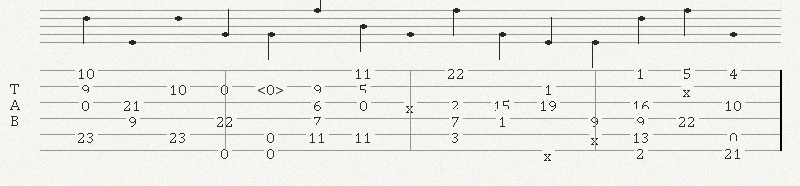0: (81, 95, 94, 109), (220, 143, 233, 157), (220, 79, 233, 93), (266, 143, 279, 157), (266, 127, 279, 141), (359, 95, 372, 109), (729, 127, 742, 141)
1: (498, 111, 511, 125), (544, 79, 557, 93), (636, 63, 649, 77)
10: (77, 63, 99, 77), (169, 79, 191, 93), (724, 95, 746, 109)
11: (308, 127, 330, 141), (354, 127, 376, 141), (354, 63, 376, 77)
13: (632, 127, 654, 141)
15: (493, 95, 515, 110)
16: (632, 95, 654, 109)
19: (539, 95, 561, 109)
2: (451, 95, 464, 109), (636, 143, 649, 157)
21: (123, 95, 145, 109), (724, 143, 746, 157)
22: (216, 111, 238, 125), (447, 63, 469, 77), (678, 111, 700, 125)
23: (77, 127, 99, 141), (169, 127, 191, 141)
3: (451, 127, 464, 141)
4: (729, 63, 742, 77)
5: (359, 79, 372, 94), (683, 63, 696, 78)
6: (313, 95, 326, 109)
7: (313, 111, 326, 125), (451, 111, 464, 125)
9: (81, 79, 94, 93), (128, 111, 141, 125), (313, 79, 326, 93), (590, 111, 603, 125), (636, 111, 649, 125)
harmonic: (257, 79, 288, 93)
x: (406, 97, 418, 108), (544, 145, 556, 156), (591, 129, 603, 140), (683, 81, 695, 92)
